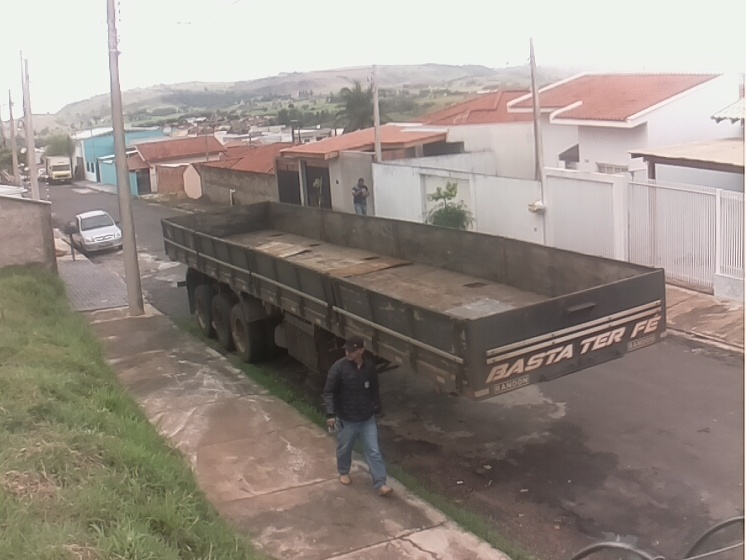person: (321, 334, 397, 497), (350, 177, 371, 218)
